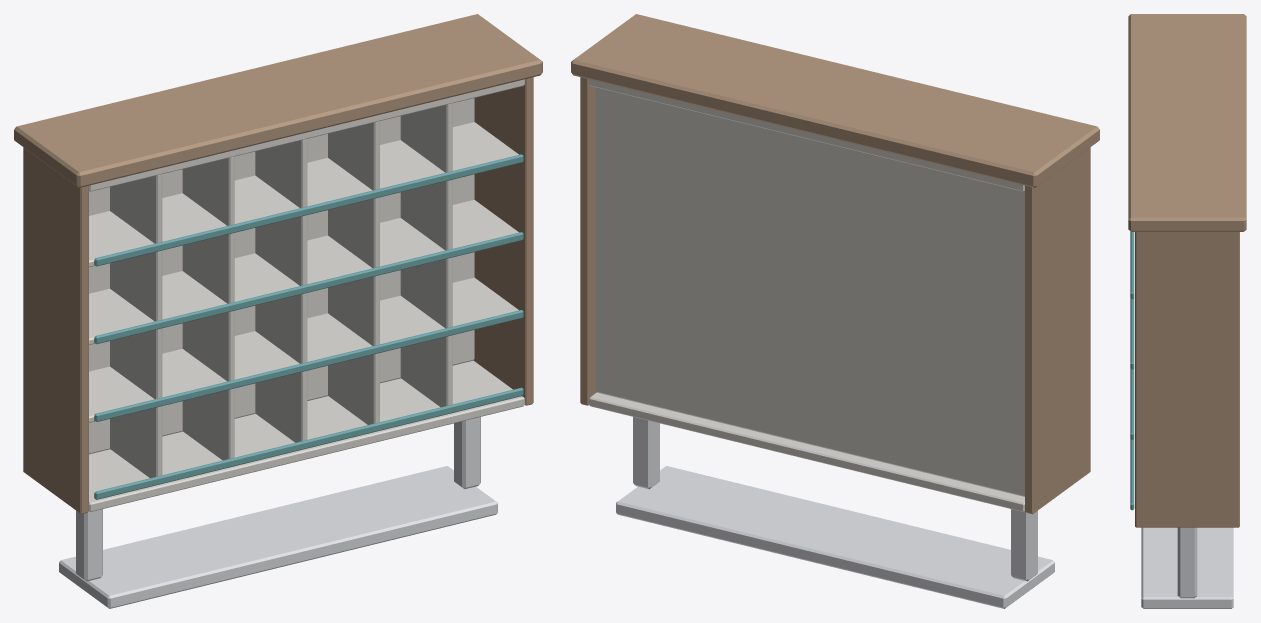
File: hotel-and-resort-operations-key-card-rack-9ea4070c__25861.glb
The picture shows the model from 3 angles, left to right: view 1: azimuth 30°, elevation 25°; view 2: azimuth 150°, elevation 25°; view 3: azimuth 270°, elevation 25°; orthographic projection. The views are drawn at different scales.
Parts seen in each view (by area): view 1: key-card-rack; view 2: key-card-rack; view 3: key-card-rack.
Boxes of the visible parts, box(x1,y1,x2,y2) form: key-card-rack: box(14, 14, 542, 608); key-card-rack: box(571, 14, 1099, 608); key-card-rack: box(1128, 14, 1246, 608).
Bounding box in the file's own units: 0.74 × 0.684 × 0.1799.
